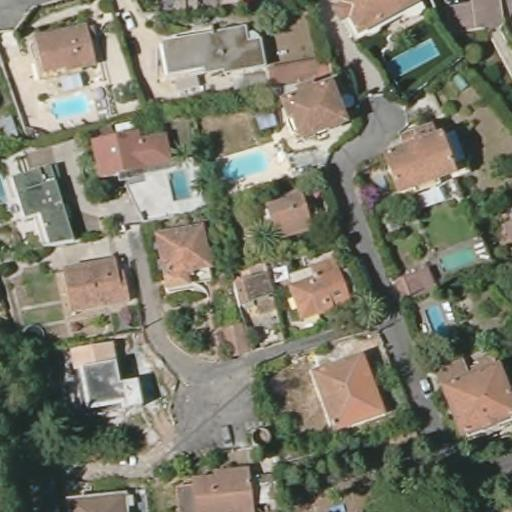pool: (385, 38, 440, 79), (218, 151, 268, 181), (439, 244, 480, 274), (50, 96, 91, 119), (167, 168, 193, 200), (425, 300, 447, 337), (0, 172, 14, 208), (341, 91, 355, 110)
